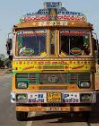truck: (7, 2, 96, 121)
